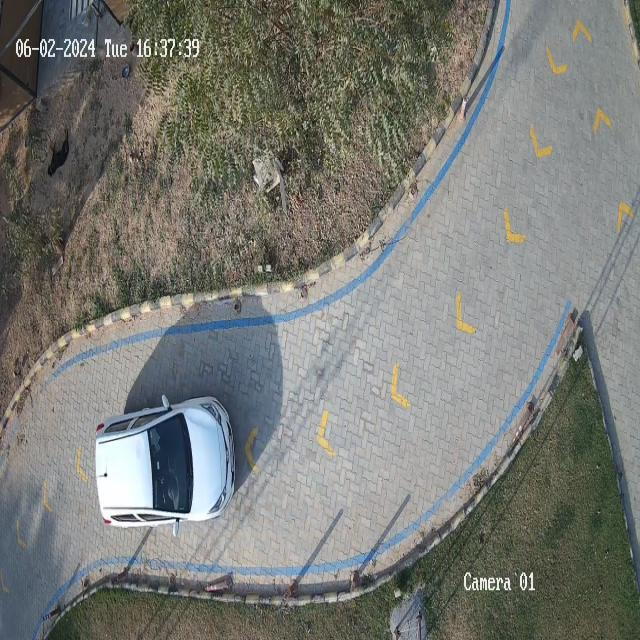car: (95, 398, 235, 528)
